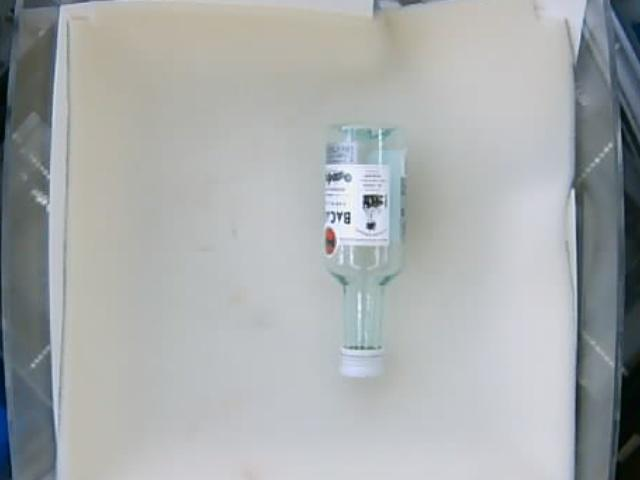Bottle: (324, 122, 406, 379)
